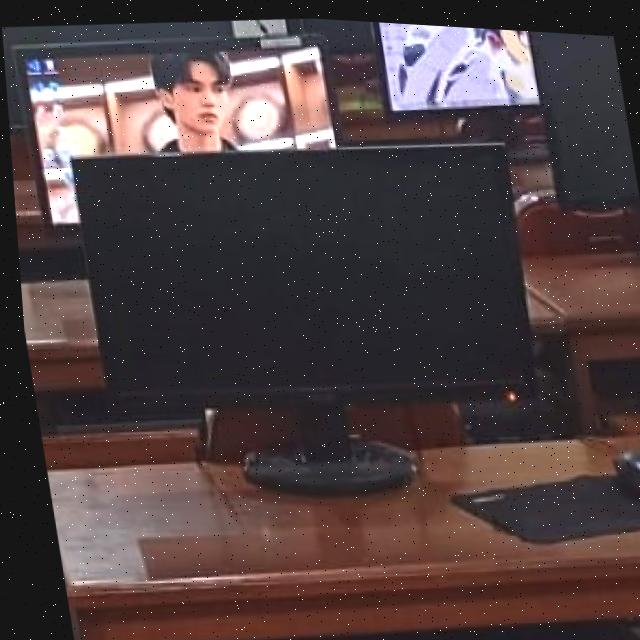offscreen: (73, 141, 524, 412), (531, 25, 637, 196)
onscreen: (26, 42, 331, 222), (379, 18, 536, 106)
